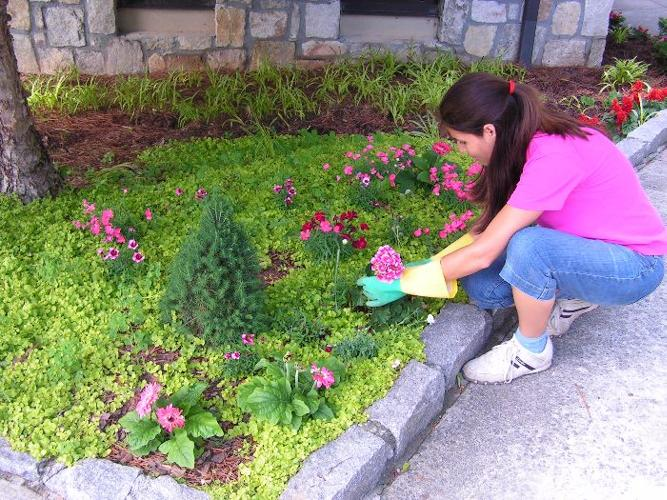person: (353, 70, 667, 384)
